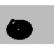correct: (5, 17, 34, 41)
